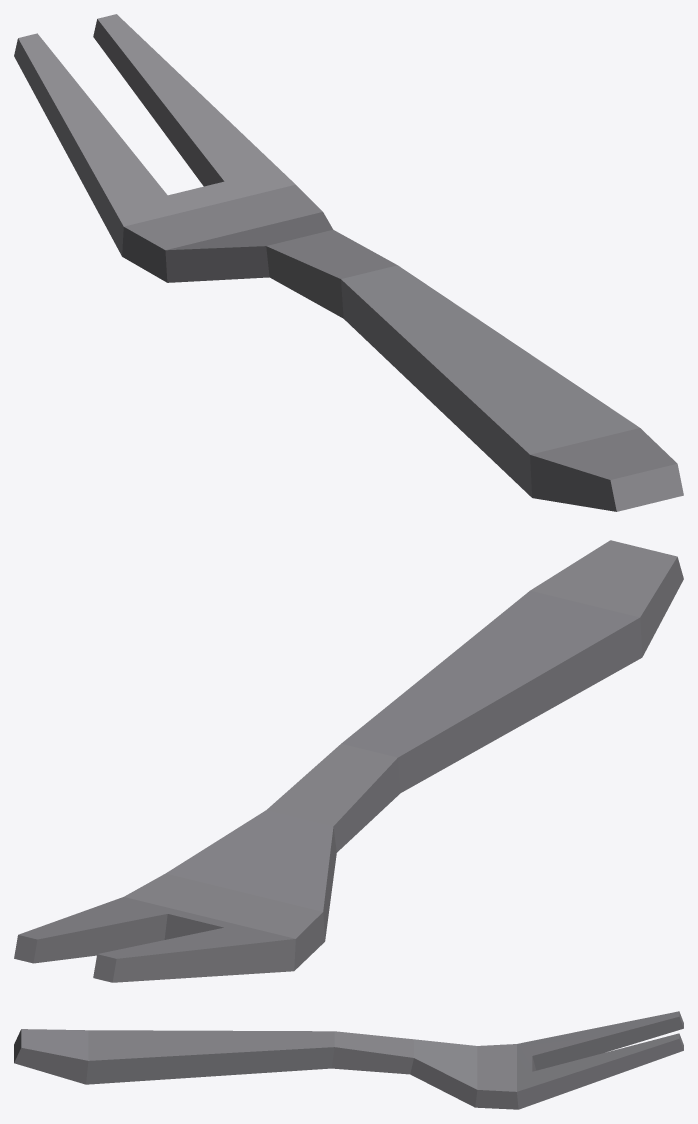
File: entity19862.glb
The picture shows the model from 3 angles, top to bottom: view 1: azimuth 30°, elevation 25°; view 2: azimuth 150°, elevation 25°; view 3: azimuth 270°, elevation 25°; orthographic projection. The views are drawn at different scales.
Parts seen in each view (by area): view 1: node_SM_Prop_Vendor_Fork_01; view 2: node_SM_Prop_Vendor_Fork_01; view 3: node_SM_Prop_Vendor_Fork_01.
Part boxes in pixels (bbox=[...]): node_SM_Prop_Vendor_Fork_01: bbox=[14, 14, 683, 511]; node_SM_Prop_Vendor_Fork_01: bbox=[14, 540, 683, 982]; node_SM_Prop_Vendor_Fork_01: bbox=[14, 1011, 683, 1109].
Size of the model in its own units: 0.0729 by 0.0431 by 0.4308.
1 material, 1 textured.
